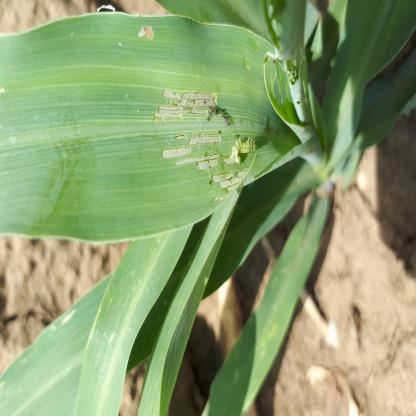armyworm: (141, 407, 155, 416)
